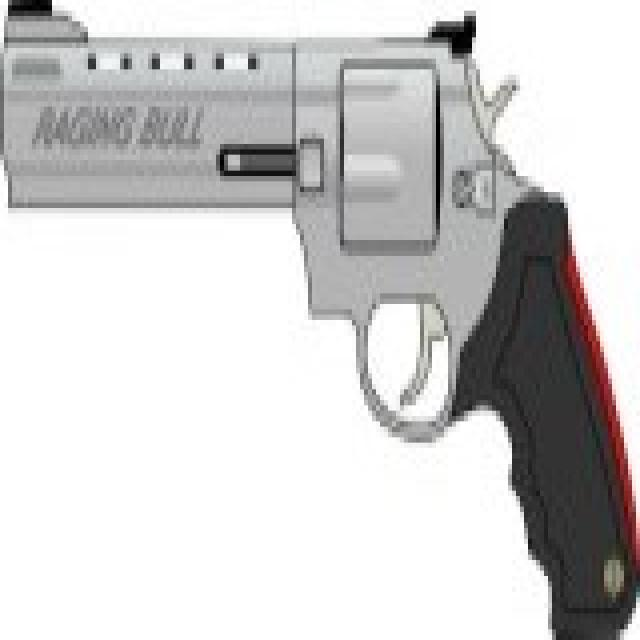Gun: (8, 9, 632, 628)
